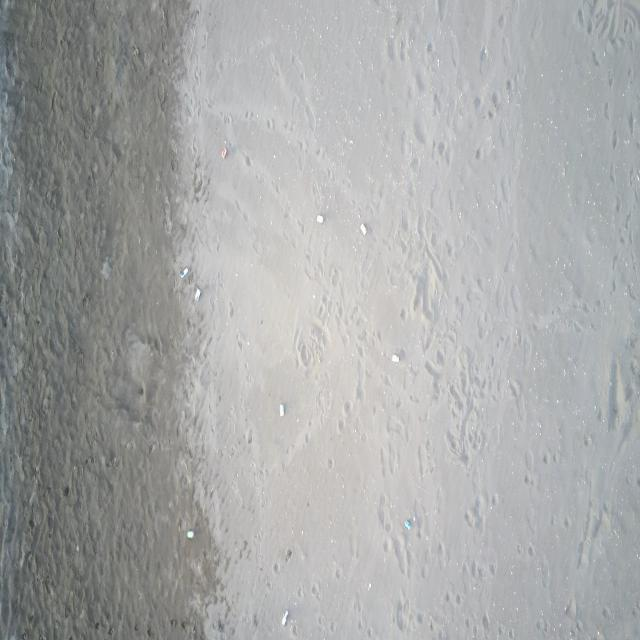Garbage: (101, 256, 111, 279), (280, 609, 287, 626), (220, 144, 227, 159), (193, 287, 200, 300), (179, 268, 188, 278), (404, 517, 412, 528), (360, 223, 367, 235), (391, 353, 399, 363), (186, 528, 193, 539), (316, 214, 323, 223), (279, 403, 284, 415), (367, 583, 371, 590)
